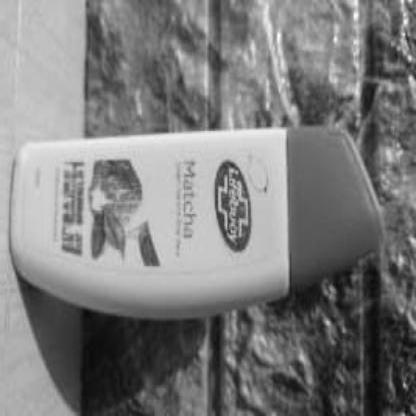objects: (8, 130, 393, 321)
